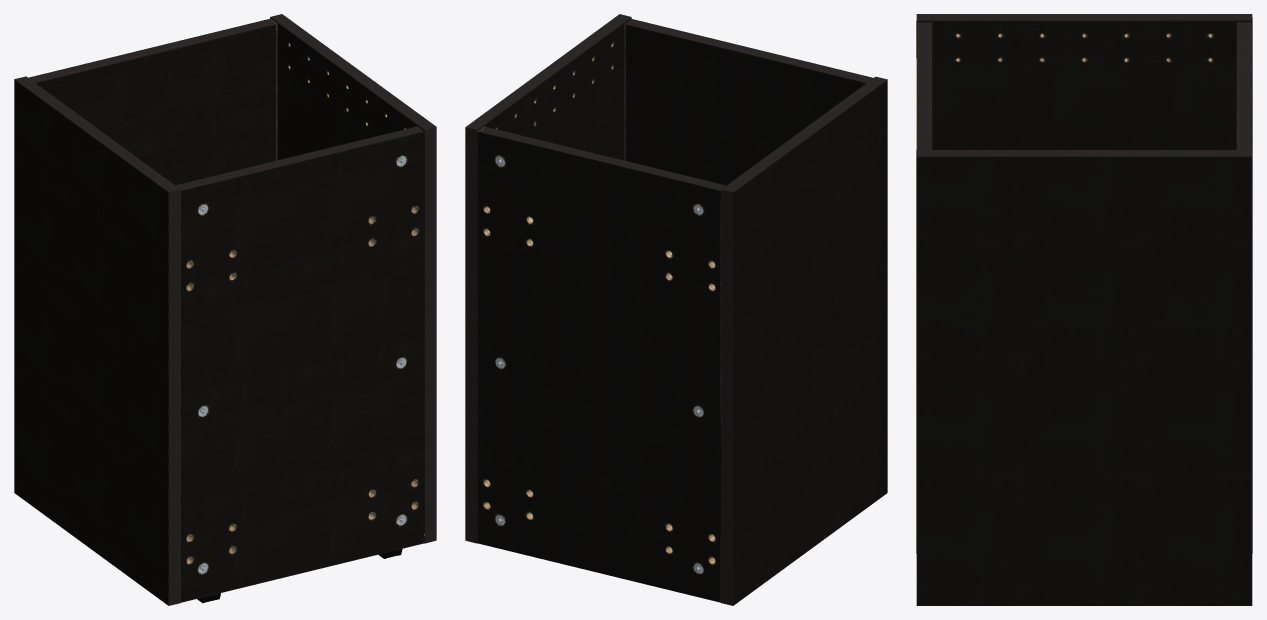
File: metod_nadstawka_10591733.glb
3 renders of one model, left to right at view 1: azimuth 30°, elevation 25°; view 2: azimuth 150°, elevation 25°; view 3: azimuth 270°, elevation 25°, orthographic. The views are drawn at different scales.
Parts seen in each view (by area): view 1: metod_nadstawka_10591733; view 2: metod_nadstawka_10591733; view 3: metod_nadstawka_10591733.
Part boxes in pixels (left/top/right/bottom): metod_nadstawka_10591733: left=14, top=14, right=436, bottom=605; metod_nadstawka_10591733: left=465, top=14, right=887, bottom=605; metod_nadstawka_10591733: left=916, top=14, right=1252, bottom=605.
Bounding box in the file's own units: 0.4 × 0.6001 × 0.4.
1 material, 1 textured.
